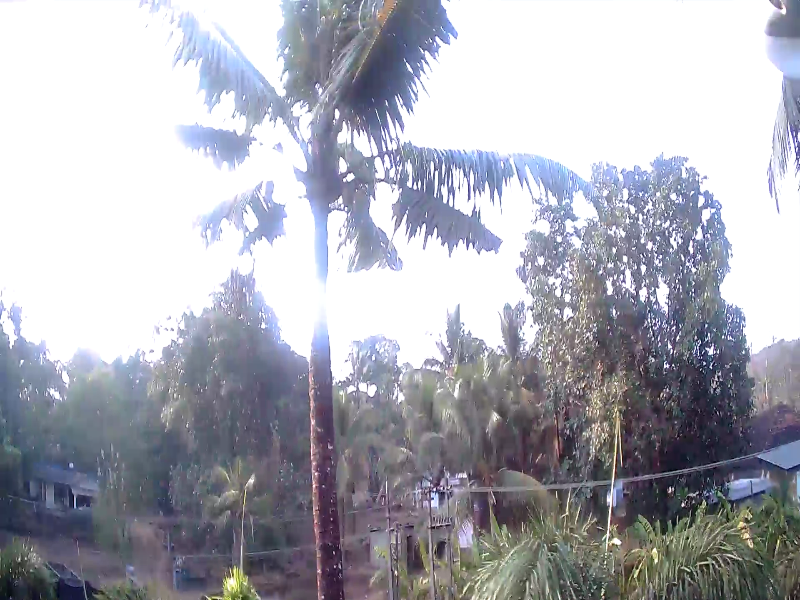coconut: (353, 162, 373, 187), (343, 147, 360, 172)
